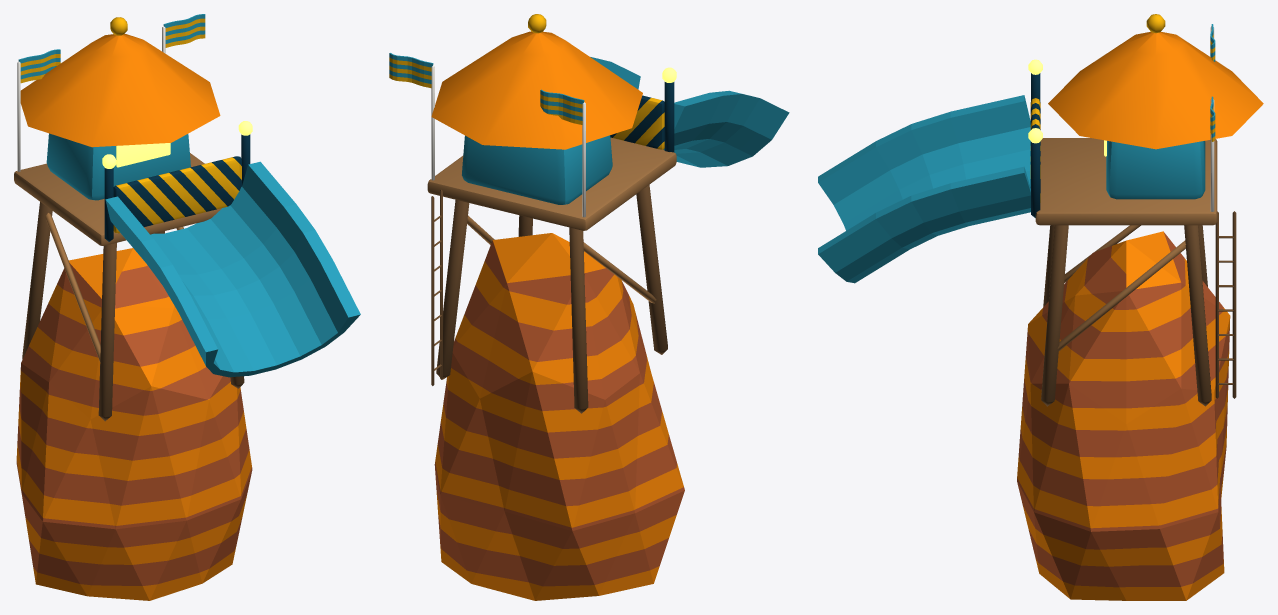
The model's file is W5_SlideTower.fbx.
3 views of the same model, side by side, from view 1: azimuth 30°, elevation 25°; view 2: azimuth 150°, elevation 25°; view 3: azimuth 270°, elevation 25° (orthographic). The views are drawn at different scales.
Parts seen in each view (by area): view 1: Static, Flag_0, Flag_1; view 2: Static, Flag_0, Flag_1; view 3: Static.
Part boxes in pixels (x1,y1,x2,y2): Static: [14, 17, 360, 600]; Flag_0: [163, 14, 205, 47]; Flag_1: [18, 49, 60, 83]; Static: [427, 14, 789, 600]; Flag_0: [389, 53, 433, 88]; Flag_1: [540, 89, 584, 124]; Static: [818, 14, 1263, 600].
Bounding box in the file's own units: 10.78 × 24.67 × 18.17.
